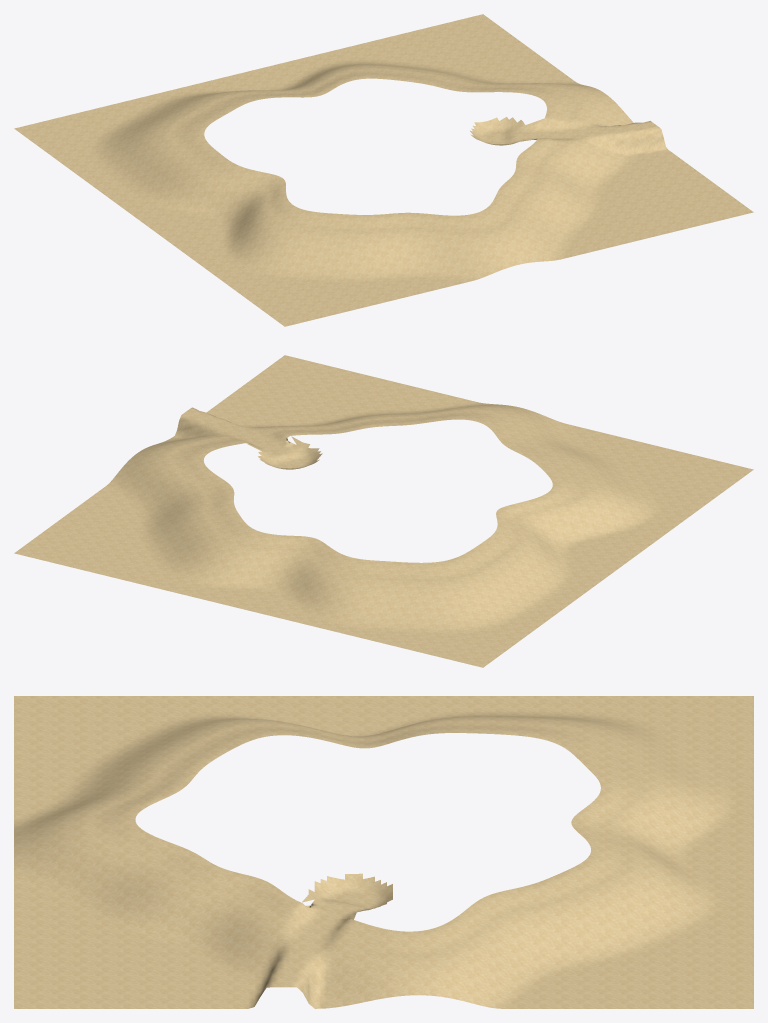
File: Terrain_Beach.002.fbx
3 views of the same model, one above another, from view 1: azimuth 30°, elevation 25°; view 2: azimuth 150°, elevation 25°; view 3: azimuth 270°, elevation 25° (orthographic). The views are drawn at different scales.
Visible parts, largest first — view 1: Terrain_Beach.002; view 2: Terrain_Beach.002; view 3: Terrain_Beach.002.
Boxes of the visible parts, x1,y1,x2,y2 form: Terrain_Beach.002: (14, 14, 753, 326); Terrain_Beach.002: (14, 355, 753, 667); Terrain_Beach.002: (14, 696, 753, 1008).
Bounding box in the file's own units: 67.65 × 3.3 × 67.65.
